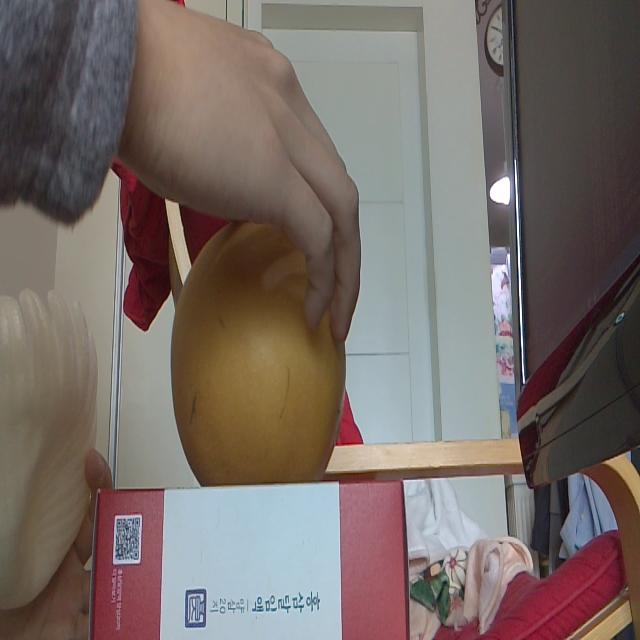pear: (168, 217, 346, 480)
